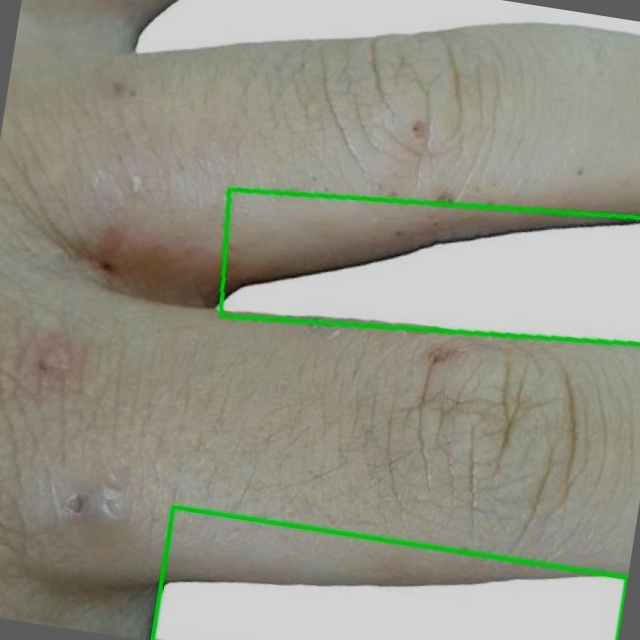Scabies: (221, 190, 639, 345), (152, 506, 627, 639)
